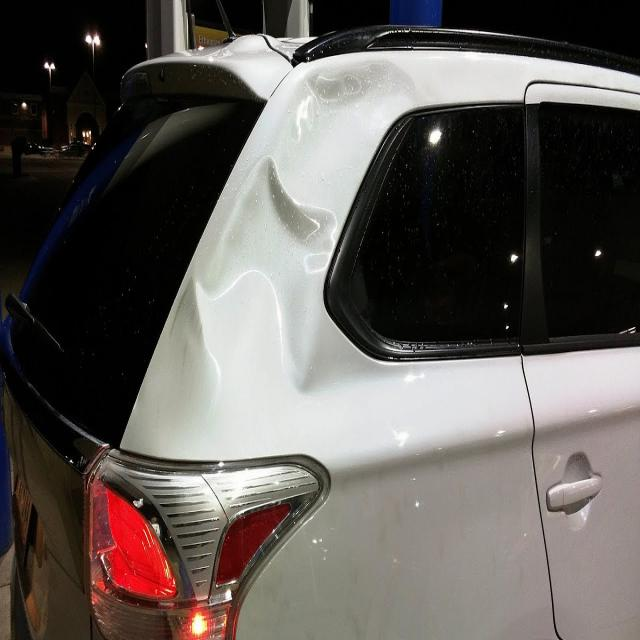dent: (151, 49, 417, 452)
